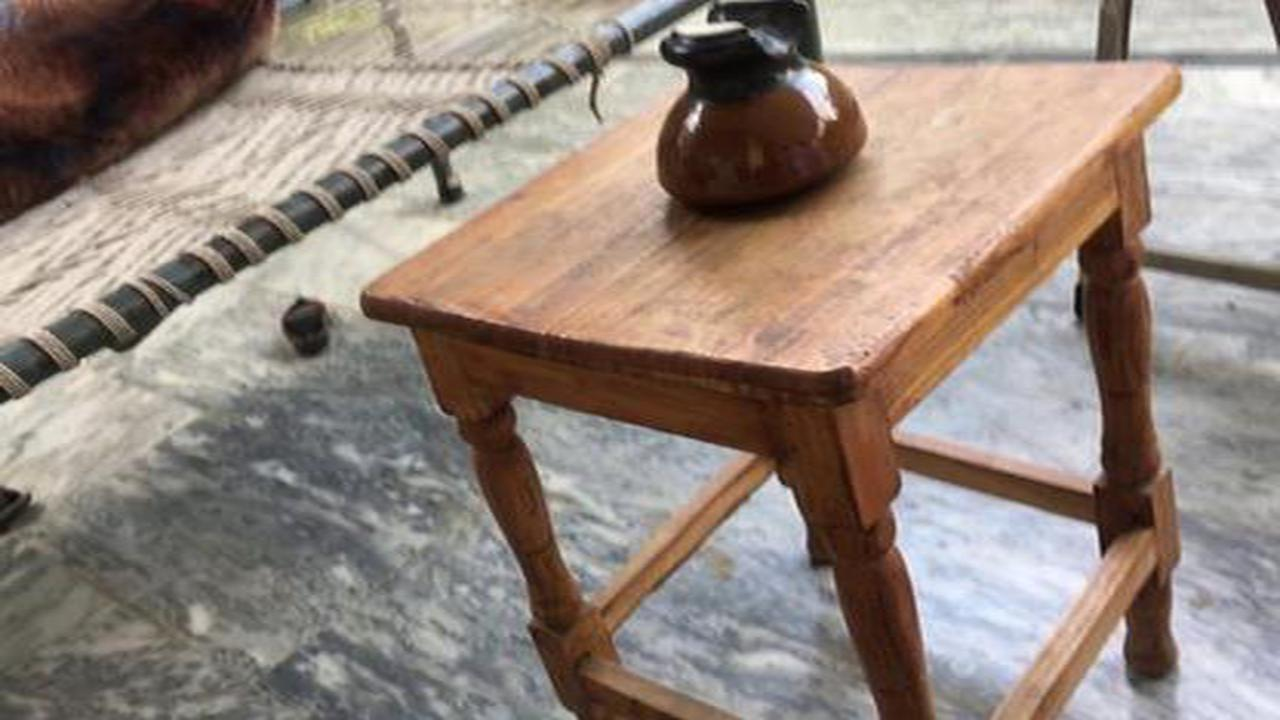insulator_pin: (628, 2, 896, 222)
